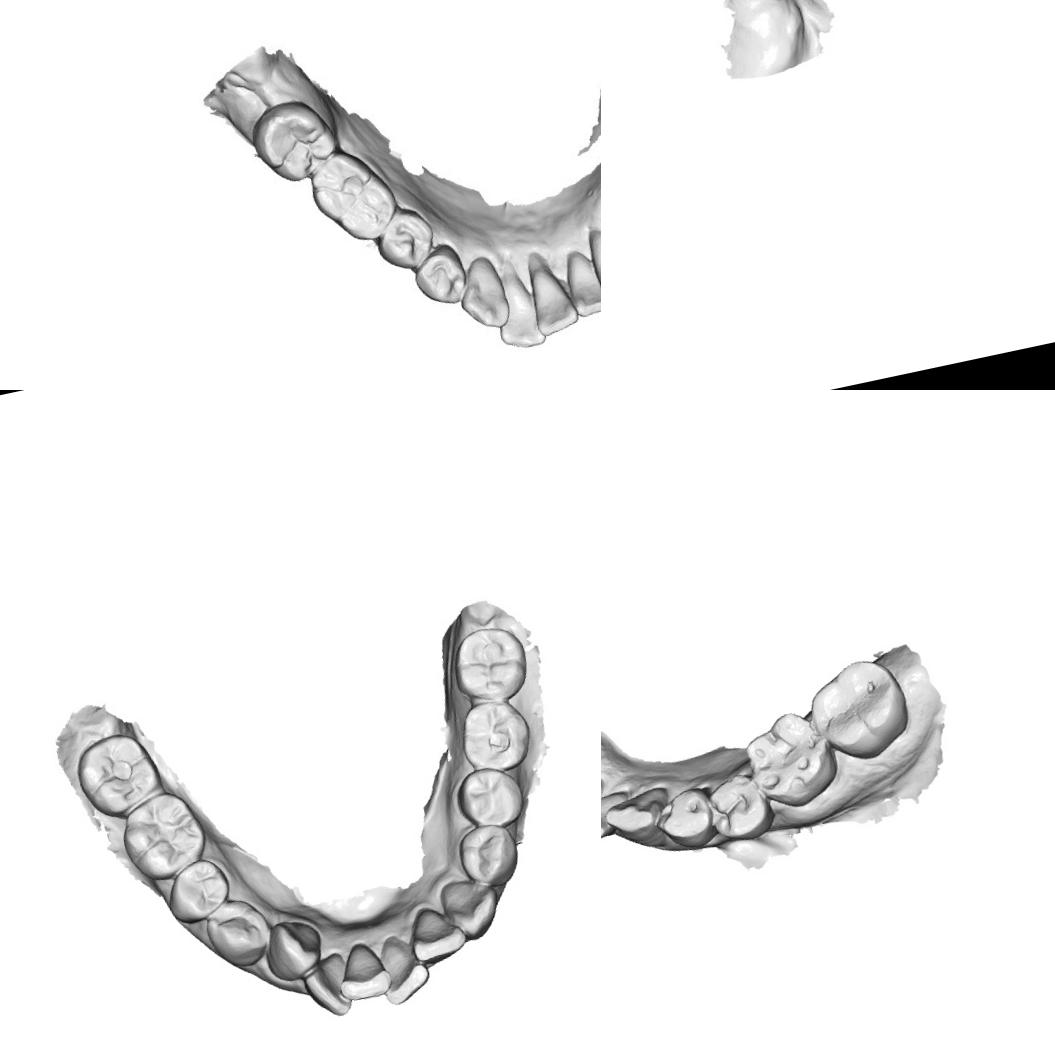canine: (437, 869, 507, 945), (452, 251, 514, 334), (257, 912, 327, 984), (601, 786, 671, 846)
incisor: (488, 251, 550, 350), (522, 248, 584, 336), (370, 931, 435, 1010), (329, 938, 396, 1005), (401, 900, 468, 965), (298, 956, 360, 1023), (560, 245, 601, 317), (601, 792, 625, 844), (587, 222, 601, 296)
molar: (802, 652, 916, 768), (737, 704, 844, 817), (302, 142, 407, 253), (110, 787, 216, 887), (68, 724, 170, 824), (245, 94, 342, 188), (446, 620, 534, 706), (450, 692, 536, 778)
premolar: (159, 853, 236, 928), (200, 894, 274, 972), (450, 760, 526, 835), (452, 816, 522, 891), (704, 770, 771, 843), (651, 784, 718, 856), (373, 206, 436, 275), (413, 247, 470, 306)
